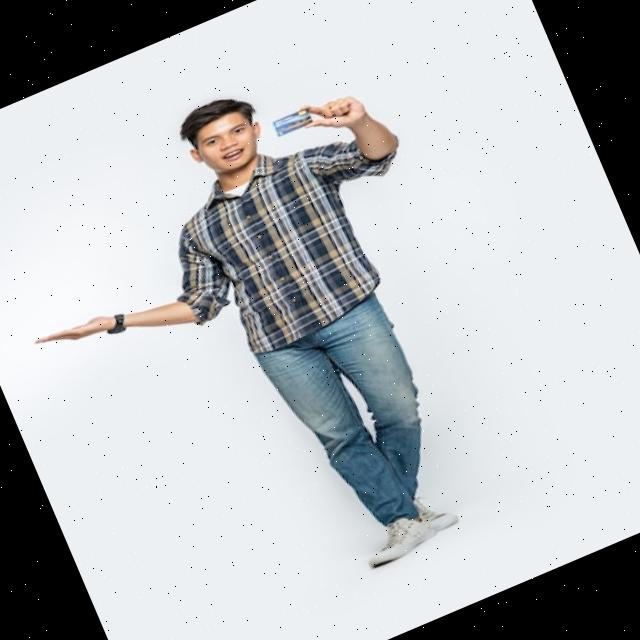Person: (0, 40, 549, 640)
